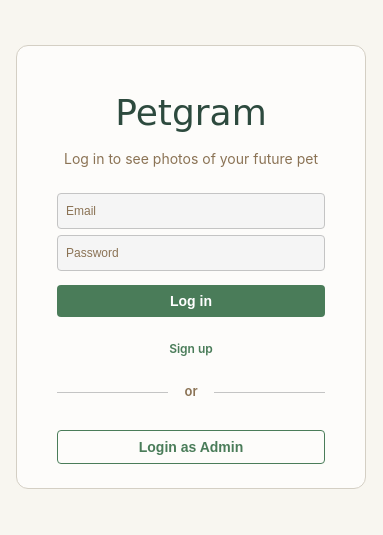
Login Page › shows error on login failure
The width and height of the screenshot is (383, 535).
Type "test@test.com" into the field with placeholder "Email" at (191, 211), box [57,193,325,229]
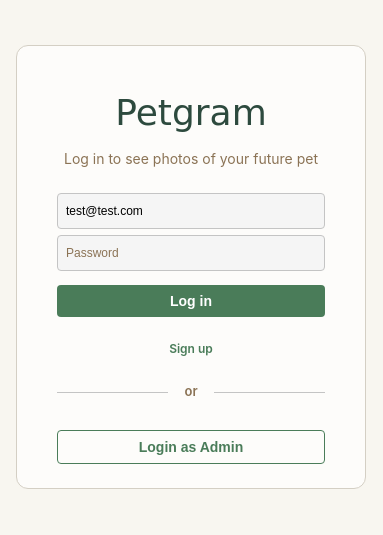
Type "wrongpass" into the password field with placeholder "Password" at (191, 253), box [57,235,325,271]
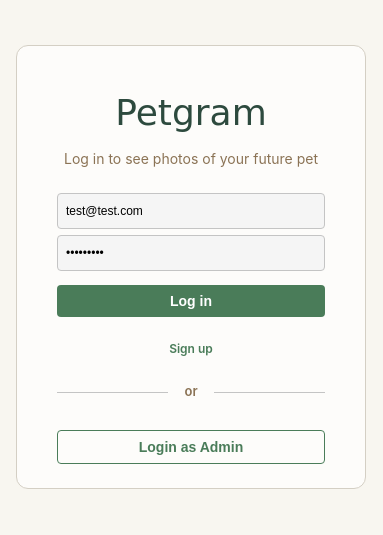
Click the button "Log in" at (191, 301), box [57,285,325,317]
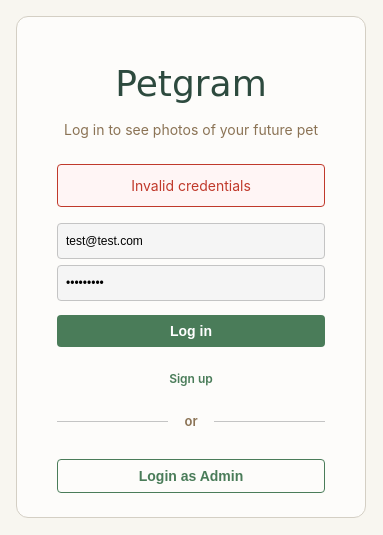
Expected: the text "Invalid credentials" is shown, [57,164,325,207]
